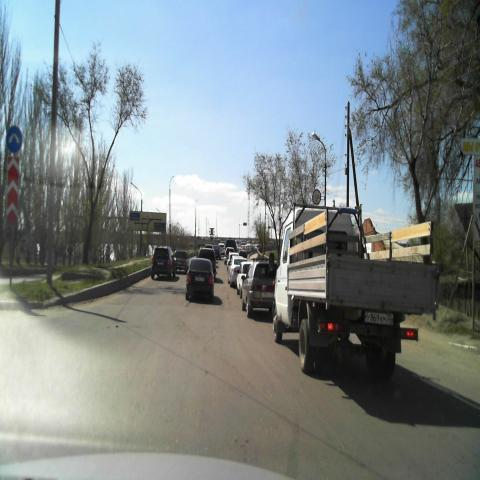3_14: (312, 188, 321, 204)
